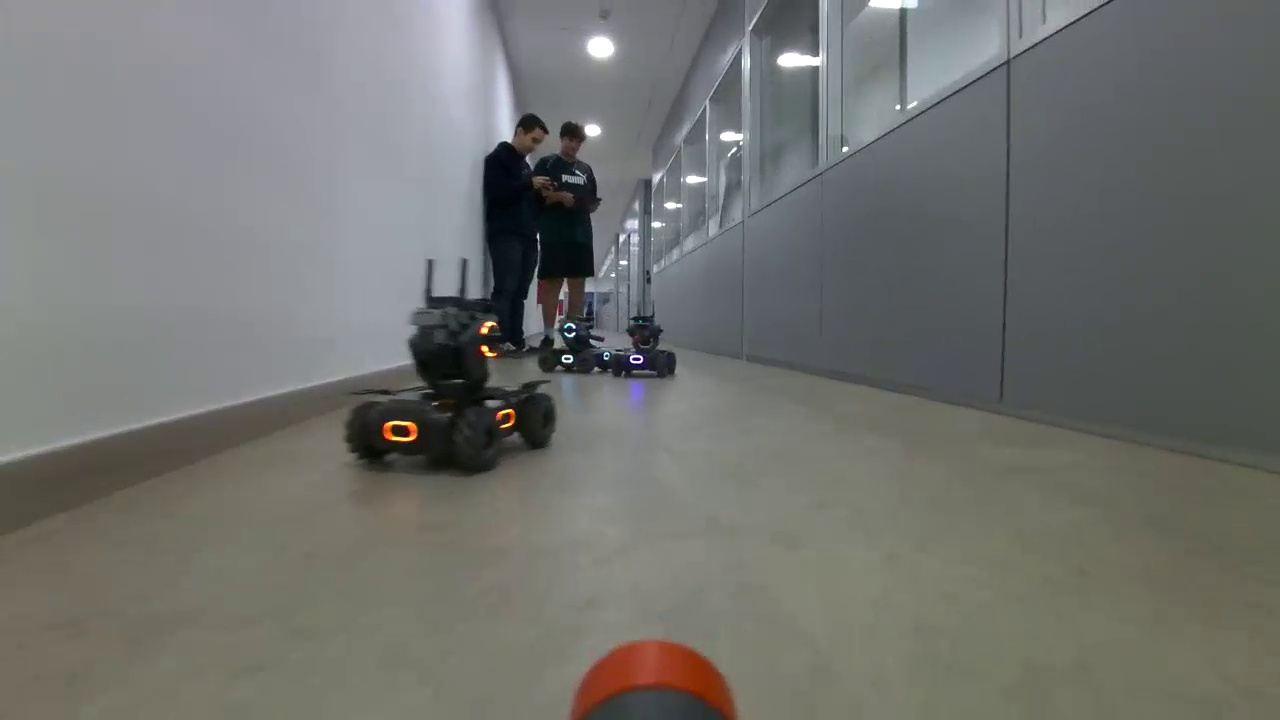robot: (345, 295, 557, 477), (610, 315, 677, 378), (538, 314, 607, 374)
